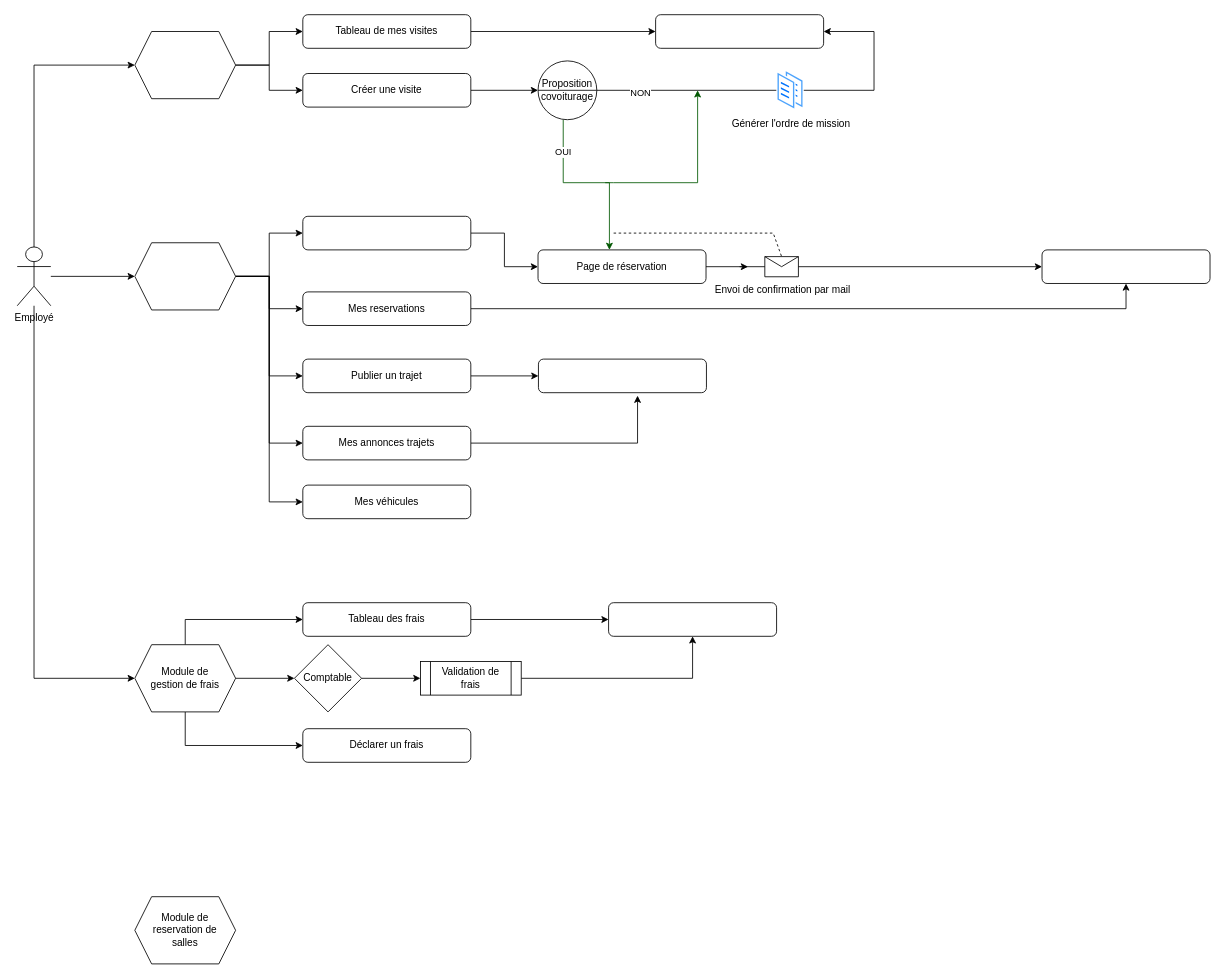
Image size: 1225x979. Some labels were removed from this diagram. Here are the shapes that lost their labels. From the top down, the centre of each, then its label:
At pixel 739 31: "Page de consultation de visite".
At pixel 185 65: "Module gestion de visite".
At pixel 386 232: "Rechercher covoiturage".
At pixel 185 276: "Module de covoiturage".
At pixel 1125 266: "Page de consultation de reservation".
At pixel 622 375: "Page de consultation de trajet".
At pixel 692 619: "Page récap de frais".
